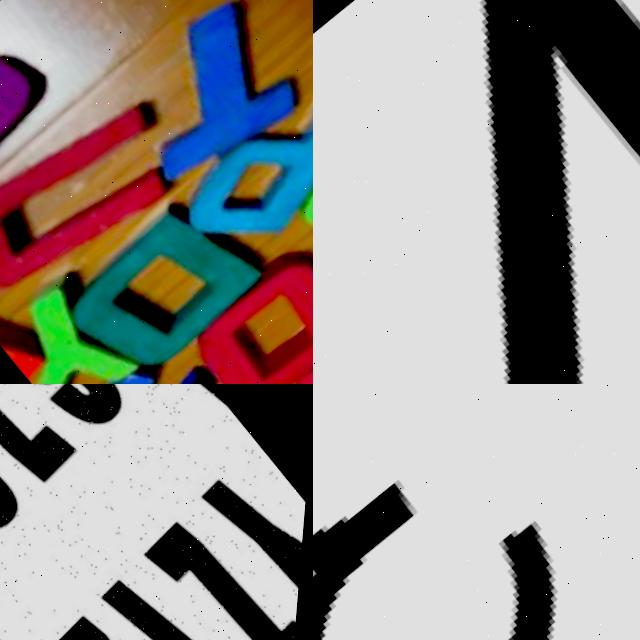1: (82, 519, 305, 640)
2: (28, 567, 274, 640)
3: (313, 384, 640, 640)
6: (0, 384, 163, 470)
7: (0, 384, 121, 532)
D: (65, 172, 281, 384)
N: (76, 338, 241, 384)
O: (186, 230, 313, 384)
P: (170, 34, 313, 275)
S: (0, 12, 63, 236)
T: (98, 0, 313, 195)
U: (0, 84, 188, 333)
V: (313, 0, 640, 384)
Y: (0, 270, 146, 384)
